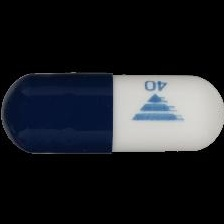54868-5611: (0, 0, 224, 224)
